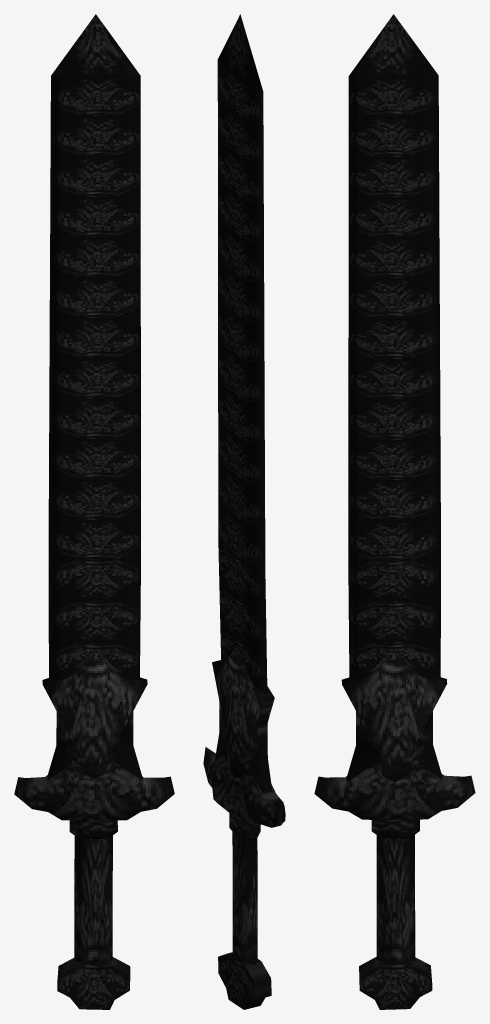
Rendered from chxuanyuanblade_ca03ff23.glb.
The picture shows the model from 3 angles, left to right: view 1: azimuth 90°, elevation 25°; view 2: azimuth 210°, elevation 25°; view 3: azimuth 270°, elevation 25°; orthographic projection.
Size of the model in its own units: 0.0951 by 2.43 by 0.3566.
1 material, 1 textured.
